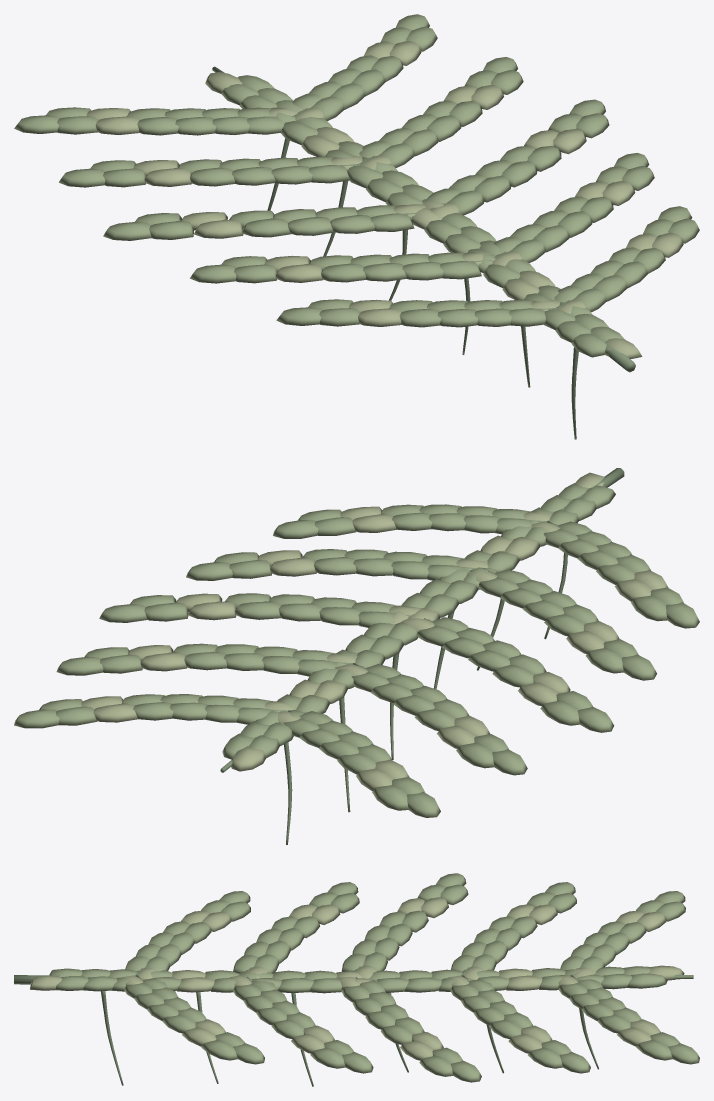
The model's file is azolla.glb.
3 renders of one model, top to bottom at view 1: azimuth 30°, elevation 25°; view 2: azimuth 150°, elevation 25°; view 3: azimuth 270°, elevation 25°, orthographic. The views are drawn at different scales.
Visible parts, largest first — view 1: overlapping small scale fronds in two alternate ranks, restrained submerged root hints, connected creeping freshwater branch units; view 2: overlapping small scale fronds in two alternate ranks, restrained submerged root hints, connected creeping freshwater branch units; view 3: overlapping small scale fronds in two alternate ranks, restrained submerged root hints, connected creeping freshwater branch units.
Part boxes in pixels (x1,y1,x2,y2): overlapping small scale fronds in two alternate ranks: [14, 14, 699, 359]; restrained submerged root hints: [267, 138, 578, 439]; connected creeping freshwater branch units: [212, 66, 635, 372]; overlapping small scale fronds in two alternate ranks: [14, 472, 699, 817]; restrained submerged root hints: [284, 553, 567, 844]; connected creeping freshwater branch units: [220, 468, 624, 772]; overlapping small scale fronds in two alternate ranks: [30, 873, 699, 1082]; restrained submerged root hints: [101, 991, 598, 1086]; connected creeping freshwater branch units: [14, 954, 693, 993].
Bounding box in the file's own units: 0.0718 × 0.0179 × 0.101.
